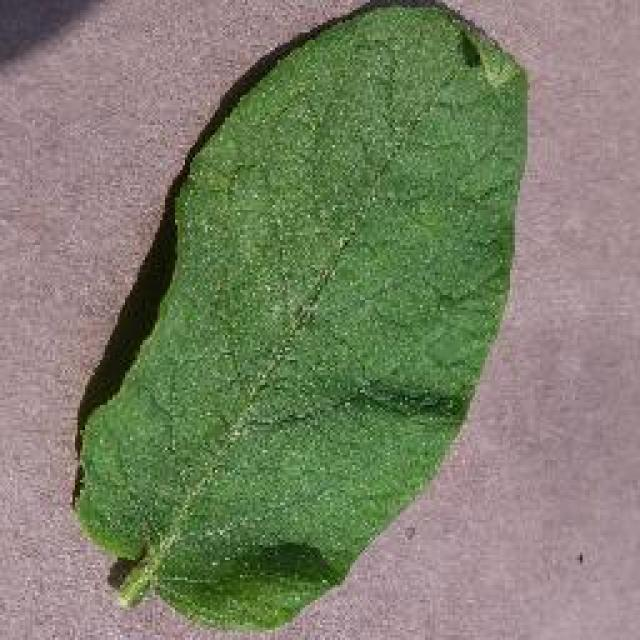healthy: (68, 0, 532, 635)
